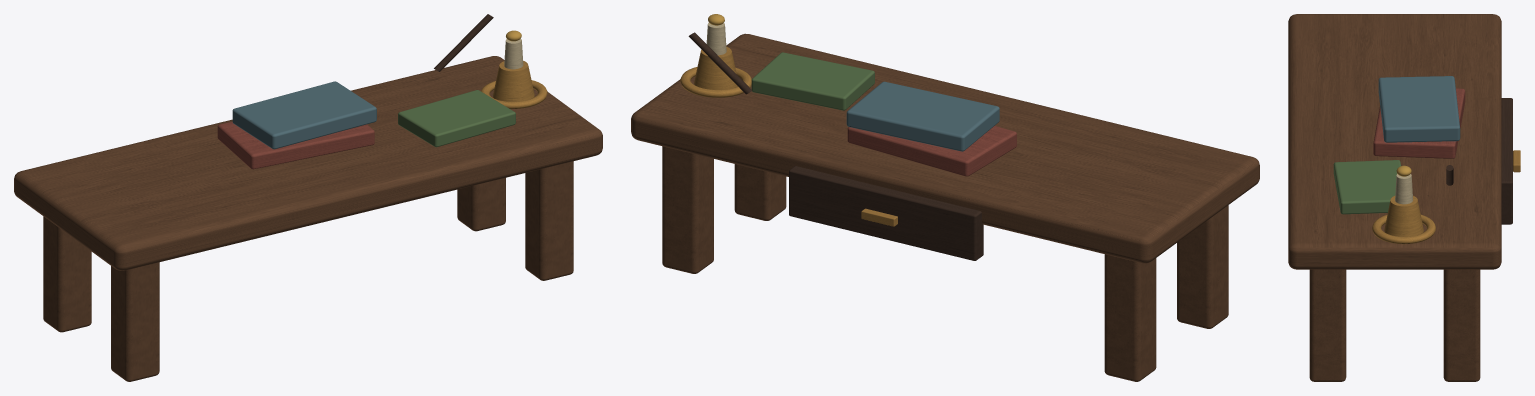
The model's file is candle_desk.glb.
3 views of the same model, side by side, from view 1: azimuth 30°, elevation 25°; view 2: azimuth 150°, elevation 25°; view 3: azimuth 270°, elevation 25° (orthographic). The views are drawn at different scales.
Visible parts, largest first — view 1: candle_desk; view 2: candle_desk; view 3: candle_desk.
Part boxes in pixels (x1=…): candle_desk: x1=14, y1=14, x2=602, y2=381; candle_desk: x1=631, y1=14, x2=1259, y2=381; candle_desk: x1=1288, y1=14, x2=1520, y2=381.
Size of the model in its own units: 2.4 by 1 by 1.
Materials: 1 (1 with a texture image).
